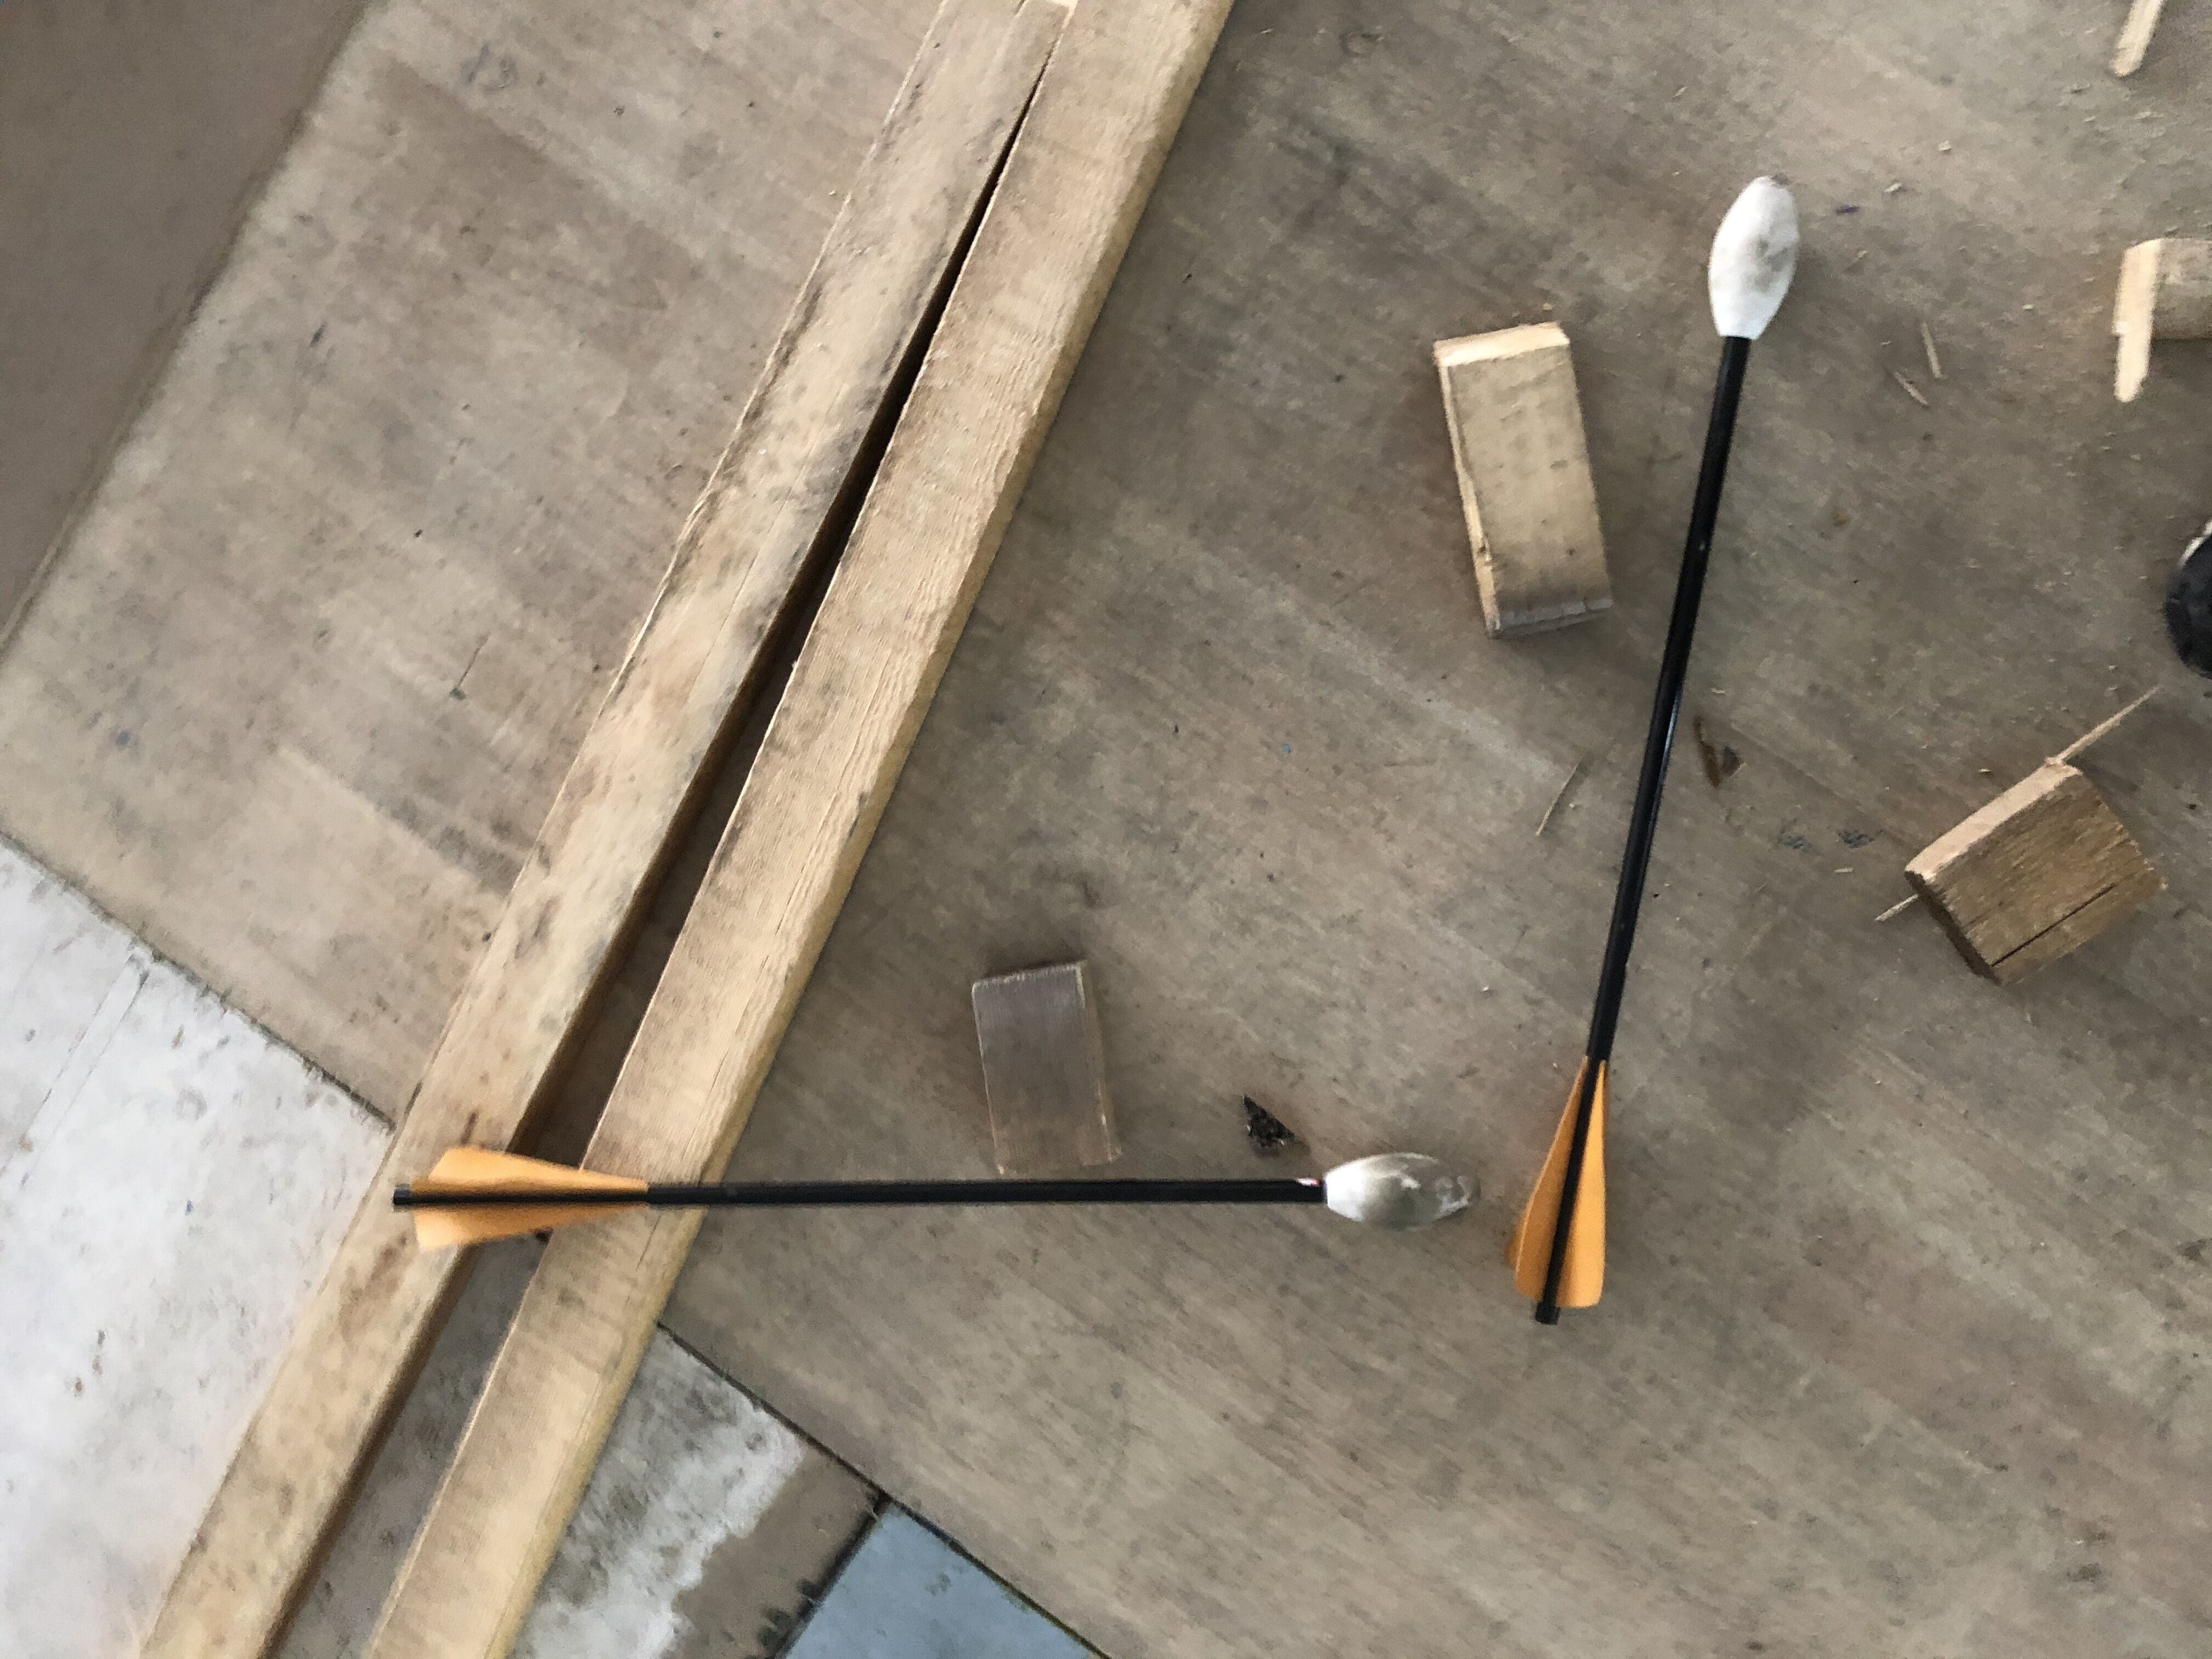arrow: (1508, 171, 1801, 1333), (392, 1143, 1482, 1256)
arrowFront: (1703, 167, 1803, 349), (1313, 1147, 1480, 1232)
